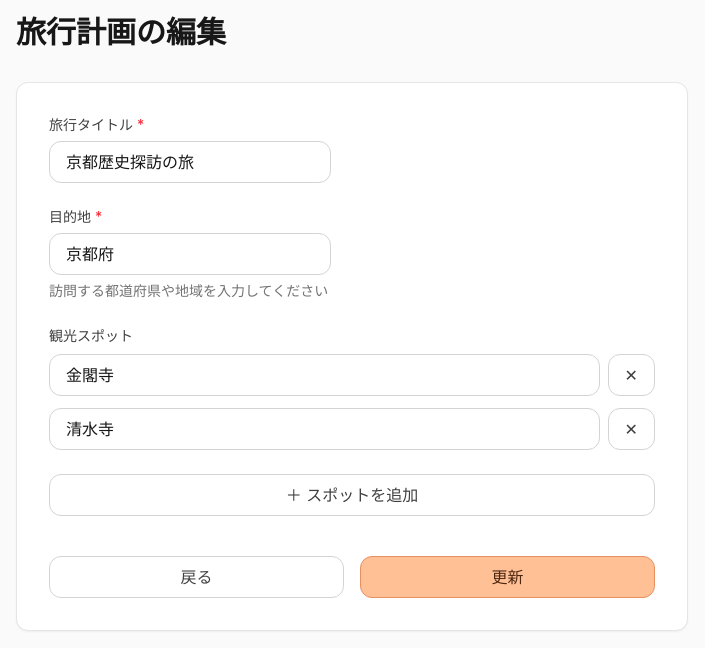
Test: TravelEditPage › バリデーション › タイトルが空の場合はエラーツールチップが表示される
Clear the field showing "京都歴史探訪の旅" at (190, 162), box [49,141,331,183]
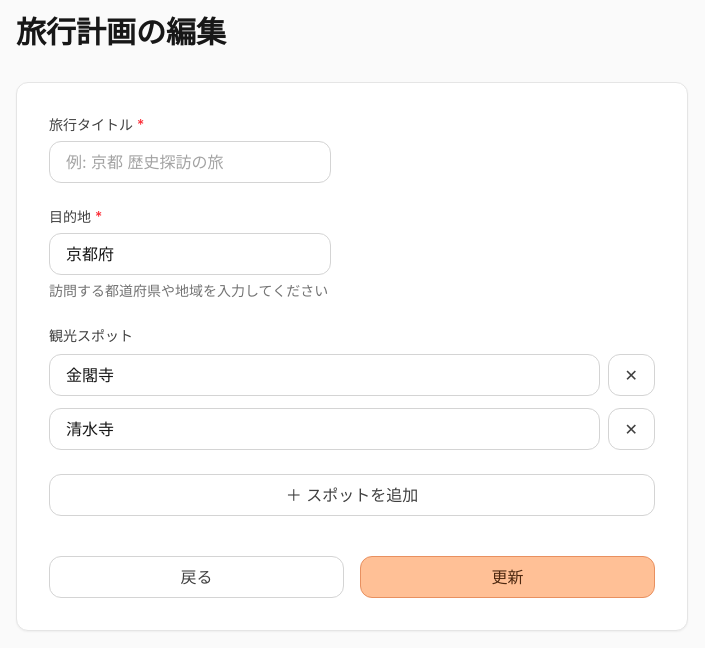
Click the button "更新" at (508, 577), box [360,556,655,598]
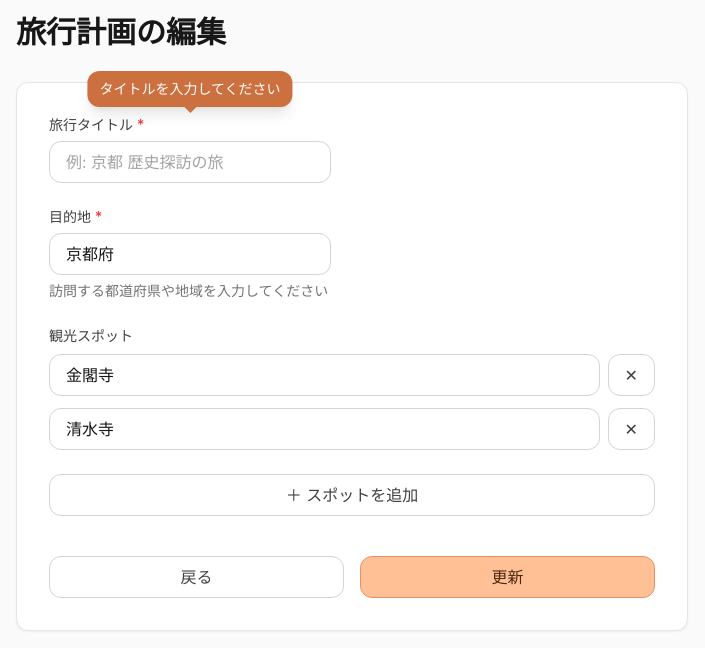
Check: the tooltip "タイトルを入力してください" is shown, box [87,71,293,107]
